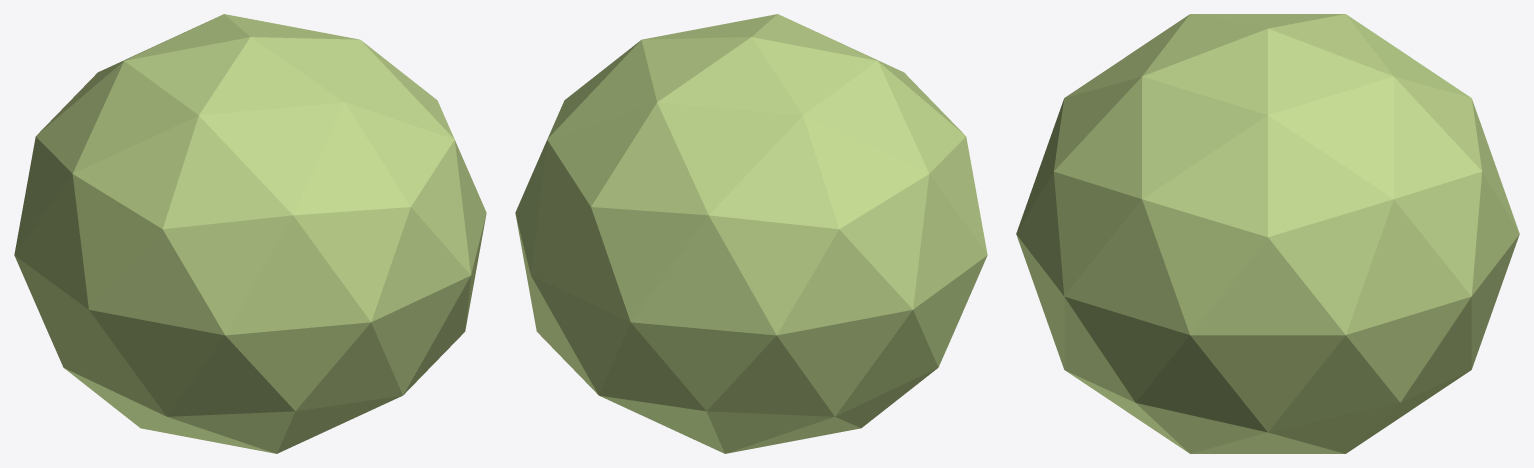
Rendered from cabbage.glb.
The picture shows the model from 3 angles, left to right: view 1: azimuth 30°, elevation 25°; view 2: azimuth 150°, elevation 25°; view 3: azimuth 270°, elevation 25°; orthographic projection. The views are drawn at different scales.
Parts seen in each view (by area): view 1: cabbage; view 2: cabbage; view 3: cabbage.
Boxes of the visible parts, x1=… form: cabbage: x1=14, y1=14, x2=486, y2=453; cabbage: x1=515, y1=14, x2=987, y2=453; cabbage: x1=1016, y1=14, x2=1519, y2=453.
Bounding box in the file's own units: 0.1902 × 0.18 × 0.2.
